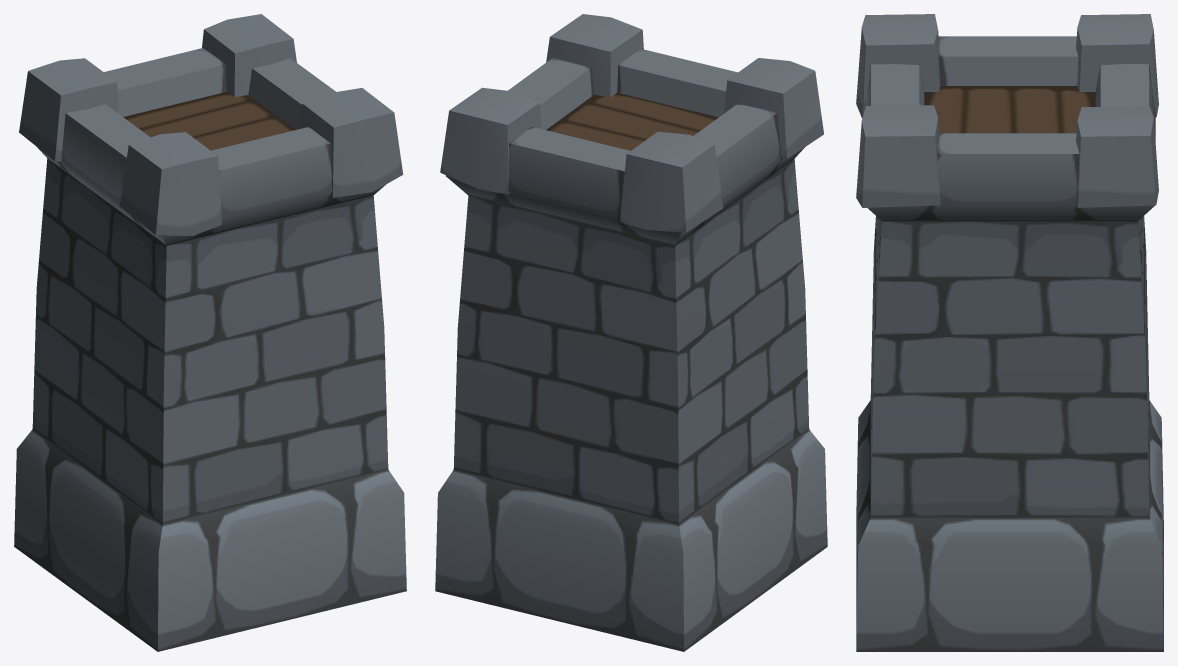
Rendered from Wall_B_corner.FBX.
3 views of the same model, side by side, from view 1: azimuth 30°, elevation 25°; view 2: azimuth 150°, elevation 25°; view 3: azimuth 270°, elevation 25° (orthographic). The views are drawn at different scales.
Visible parts, largest first — view 1: Wall_B_corner; view 2: Wall_B_corner; view 3: Wall_B_corner.
Boxes of the visible parts, left/top/right/bottom form: Wall_B_corner: left=14, top=14, right=406, bottom=651; Wall_B_corner: left=435, top=14, right=827, bottom=651; Wall_B_corner: left=856, top=14, right=1163, bottom=651.
Size of the model in its own units: 300 by 552 by 300.
